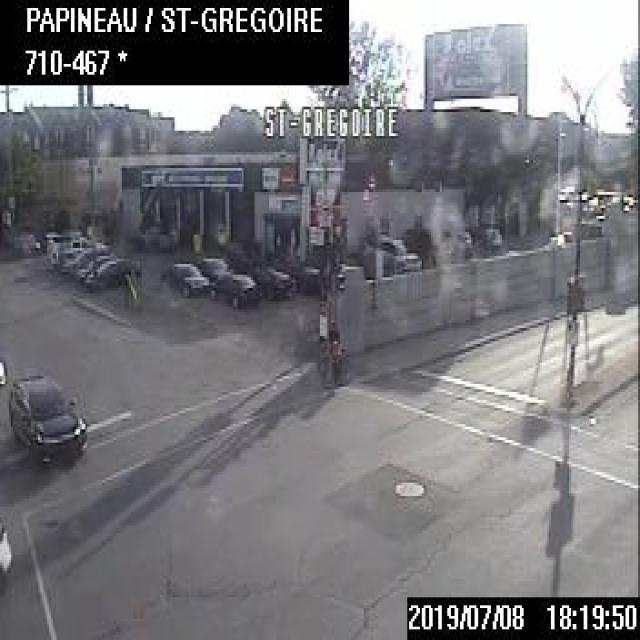pedestrian: (326, 319, 350, 388)
vehicle: (4, 376, 86, 461), (211, 268, 260, 311), (163, 256, 210, 298), (374, 229, 421, 270), (86, 254, 138, 288), (250, 262, 291, 295)
